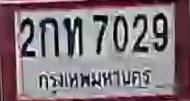0: (112, 14, 127, 52)
2: (19, 17, 34, 57), (132, 13, 147, 52)
7: (92, 14, 107, 54)
9: (152, 12, 167, 51)
A01: (39, 17, 58, 56)
A23: (63, 16, 82, 56)
BKK: (35, 67, 154, 94)
